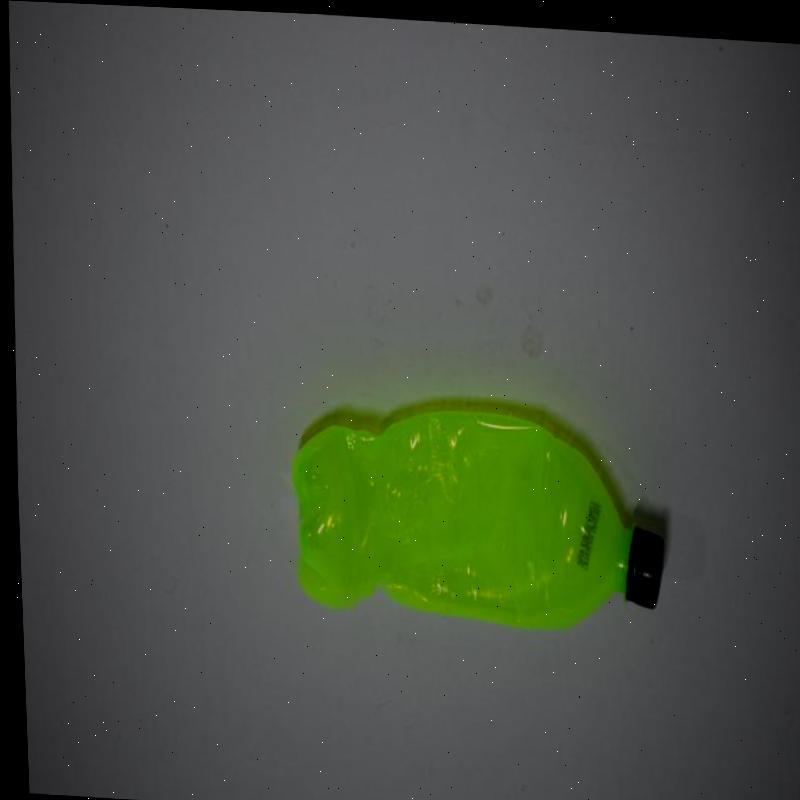botella: (280, 390, 671, 634)
